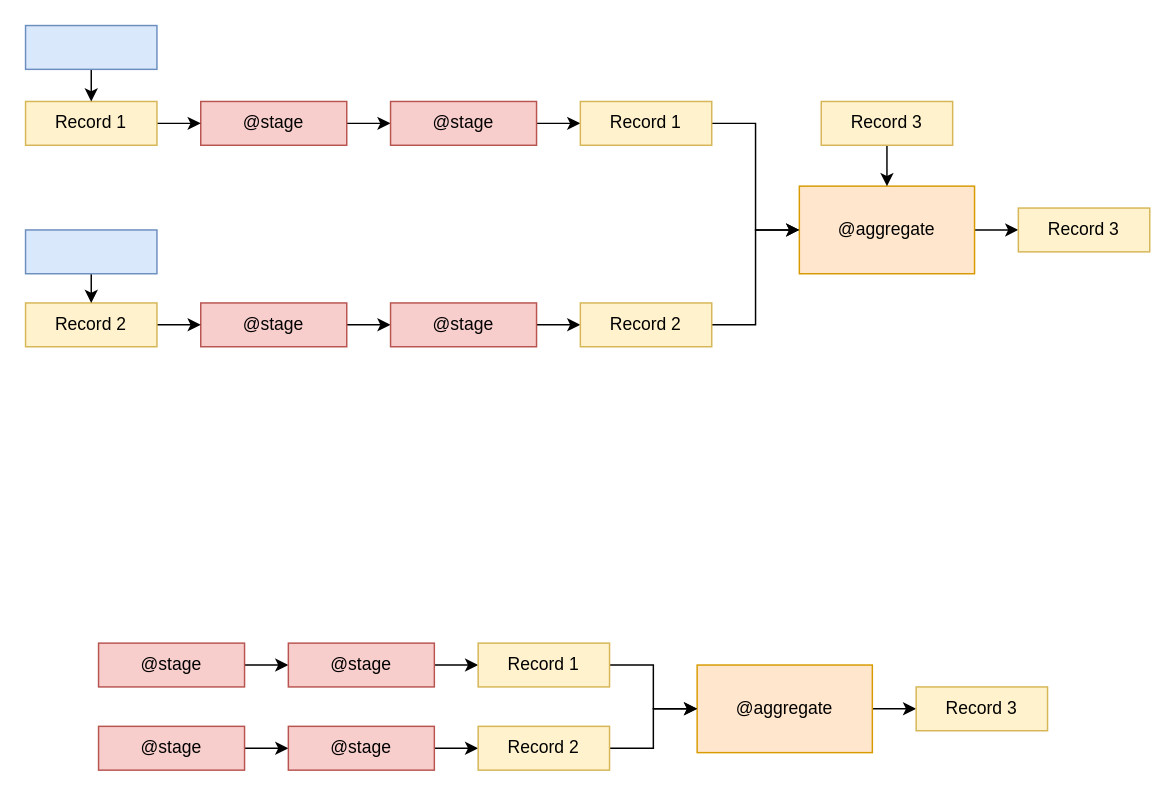
Some shapes in this 1175 by 796 pixel diagram are drawn without their labels. The centre of each missing label's shape, as x and y in pixels:
"Params 1" belongs at (x=90, y=46).
"Params 2" belongs at (x=90, y=251).
